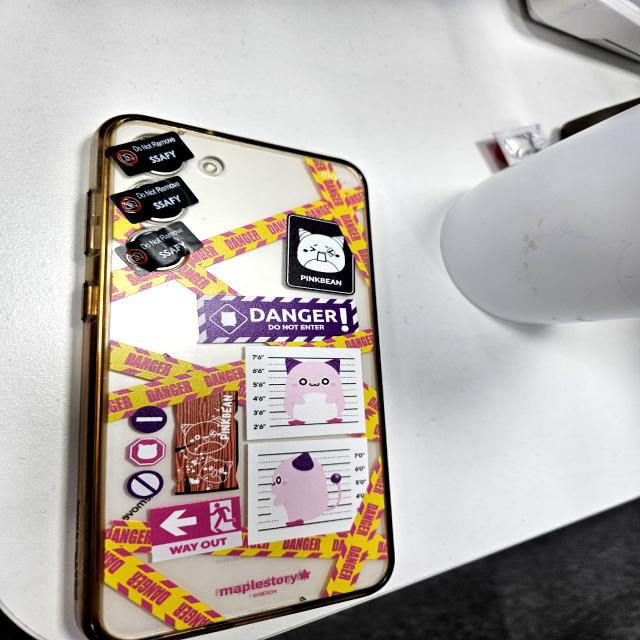phone: (81, 113, 397, 640)
sticker: (119, 223, 202, 274), (111, 178, 202, 222), (110, 133, 192, 174)
